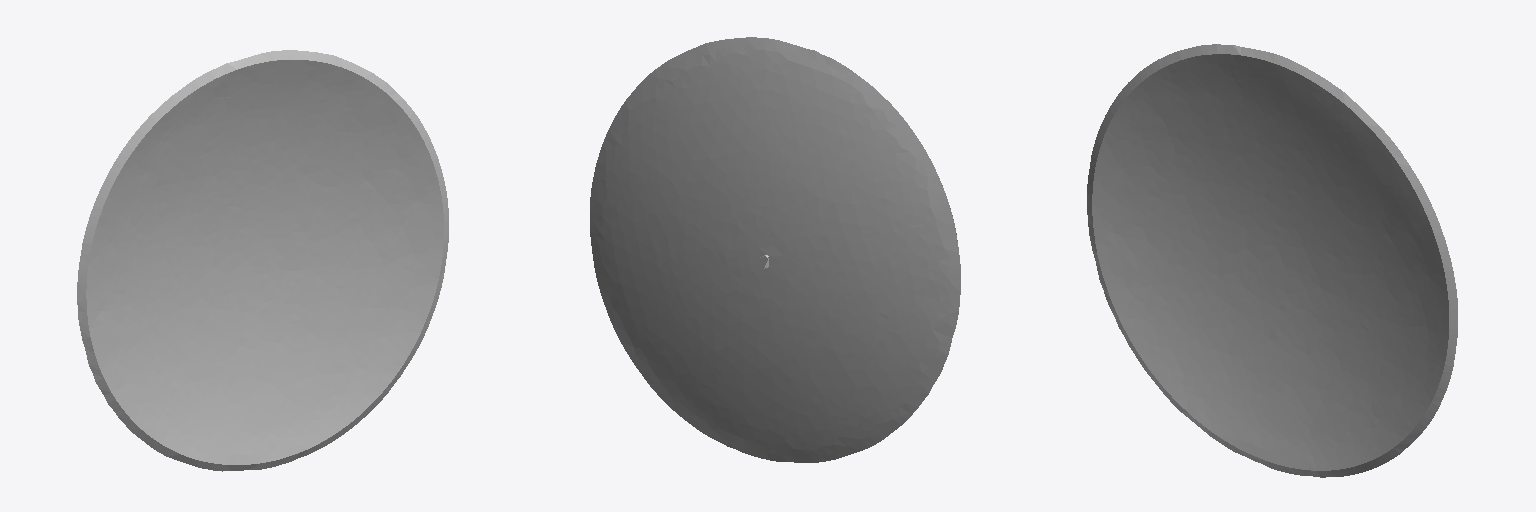
Rendered from Amulet_July_Disk_28.obj.
3 renders of one model, left to right at view 1: azimuth 30°, elevation 25°; view 2: azimuth 150°, elevation 25°; view 3: azimuth 330°, elevation 25°, orthographic.
Bounding box in the file's own units: 33.42 × 36.06 × 3.33.